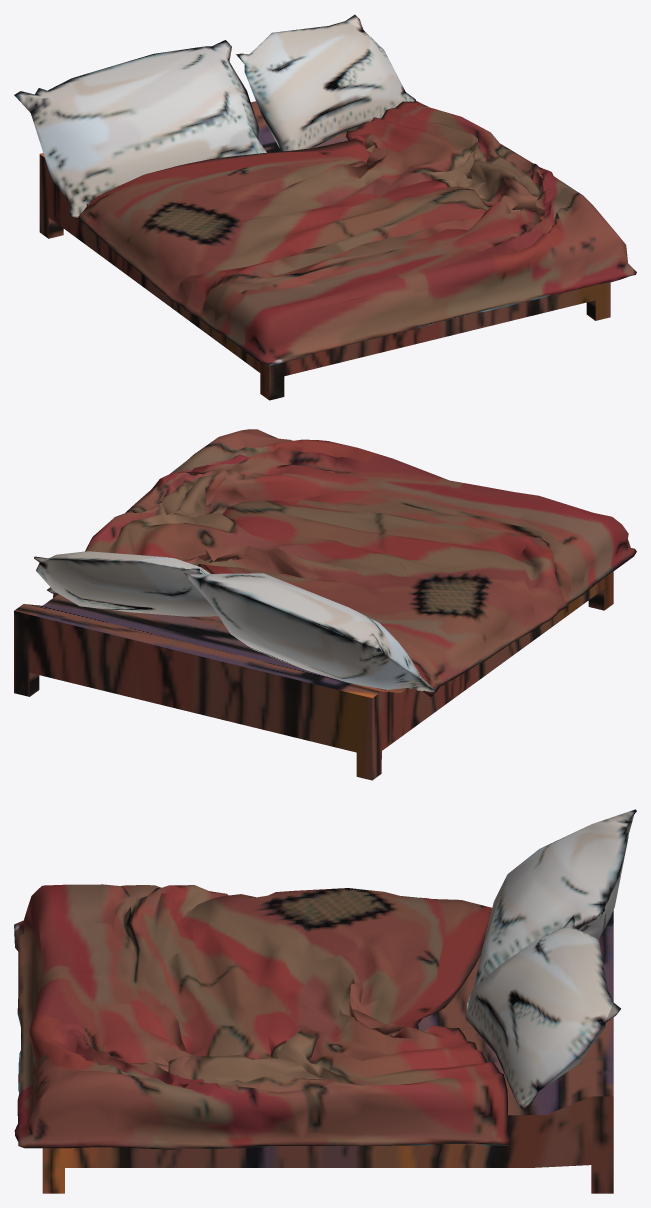
The model's file is Bed.fbx.
The picture shows the model from 3 angles, top to bottom: view 1: azimuth 30°, elevation 25°; view 2: azimuth 150°, elevation 25°; view 3: azimuth 270°, elevation 25°; orthographic projection. The views are drawn at different scales.
Visible parts, largest first — view 1: Bed; view 2: Bed; view 3: Bed.
Part boxes in pixels (x1,y1,x2,y2): Bed: (14, 14, 636, 400); Bed: (14, 429, 636, 780); Bed: (14, 809, 636, 1193).
Bounding box in the file's own units: 182 × 68.41 × 207.
